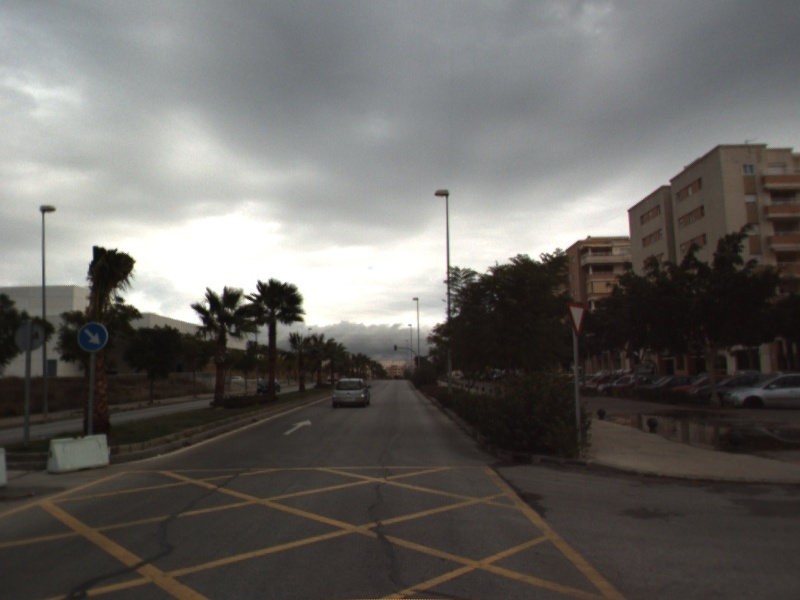STRAIGHT: (281, 418, 313, 437)
